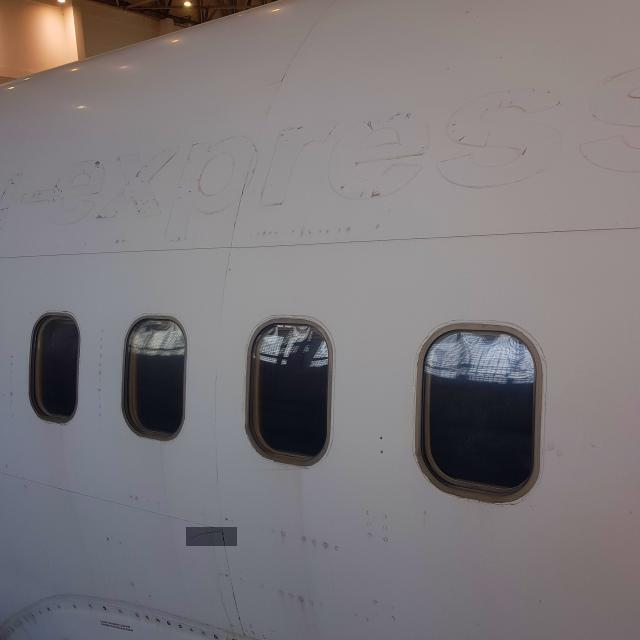crack: (187, 528, 238, 547)
